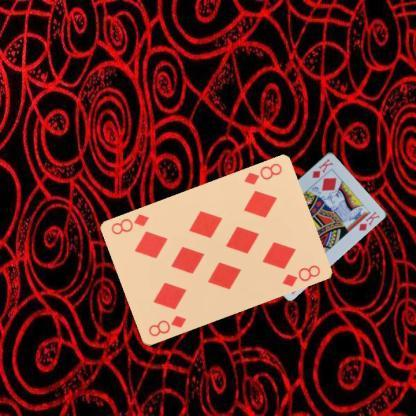8d: (242, 160, 284, 186), (146, 313, 188, 338)
Kd: (310, 156, 334, 179)
